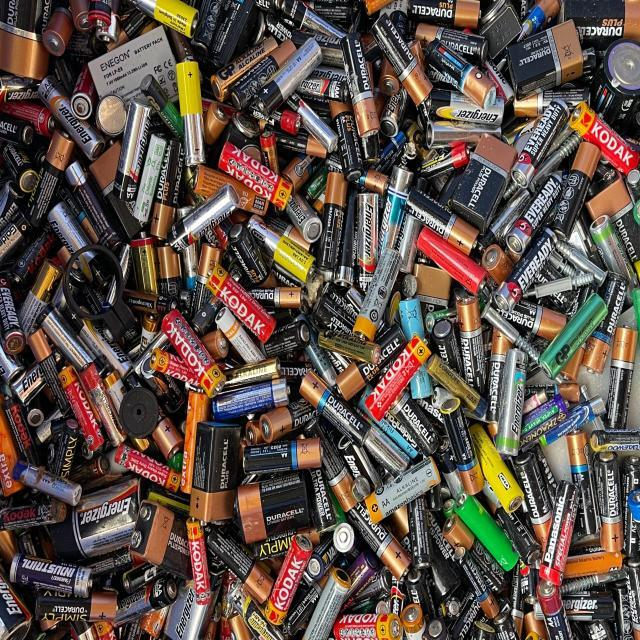B3: (248, 34, 324, 124), (369, 12, 436, 113), (540, 294, 610, 382), (207, 528, 280, 611), (402, 188, 480, 265), (351, 243, 405, 344), (421, 36, 500, 105), (363, 456, 442, 525), (510, 100, 573, 186), (211, 34, 285, 106), (166, 184, 242, 253), (570, 100, 636, 179), (66, 161, 125, 248), (469, 427, 525, 518), (548, 140, 600, 237), (169, 57, 215, 166), (189, 163, 270, 223), (265, 531, 316, 625), (245, 213, 317, 279), (340, 32, 380, 146), (528, 393, 603, 453), (194, 0, 261, 67), (380, 386, 442, 458), (28, 130, 76, 222), (7, 359, 60, 441), (415, 509, 464, 597), (537, 484, 579, 586), (113, 97, 153, 202), (489, 292, 568, 344), (312, 387, 374, 452), (376, 166, 414, 271), (510, 452, 555, 540), (357, 318, 414, 386), (112, 441, 182, 495), (211, 375, 291, 422), (138, 71, 190, 143), (493, 348, 527, 458), (410, 381, 469, 444), (18, 260, 66, 337), (9, 553, 93, 597), (441, 402, 482, 492), (300, 568, 354, 636), (7, 228, 60, 296), (397, 297, 434, 394), (318, 435, 364, 513), (297, 368, 360, 424), (456, 291, 488, 399), (589, 213, 633, 290), (272, 0, 348, 44), (318, 172, 348, 283), (242, 435, 323, 476), (10, 460, 81, 506), (462, 531, 511, 597), (591, 449, 623, 550), (149, 141, 182, 238), (606, 327, 636, 432), (564, 432, 595, 533), (226, 222, 272, 290), (1, 392, 39, 474), (303, 463, 345, 535), (474, 1, 524, 60), (485, 331, 514, 432), (146, 348, 210, 393), (513, 86, 591, 122), (359, 423, 411, 477), (310, 286, 362, 340), (518, 390, 568, 446), (25, 329, 65, 398), (549, 238, 603, 289), (493, 504, 539, 563), (128, 328, 176, 384), (299, 24, 355, 70), (429, 315, 465, 386), (111, 580, 166, 626), (316, 330, 380, 369), (264, 316, 316, 364), (0, 280, 30, 362), (332, 110, 364, 186), (298, 537, 342, 592), (407, 0, 489, 29), (2, 496, 68, 532), (186, 518, 213, 606), (33, 588, 98, 624), (339, 550, 383, 603), (0, 140, 40, 198), (301, 333, 341, 391), (191, 246, 221, 322), (0, 99, 56, 139), (346, 442, 385, 498), (416, 140, 473, 178), (45, 426, 84, 481), (221, 355, 284, 389), (283, 195, 324, 247), (536, 583, 574, 638), (423, 120, 497, 148), (619, 459, 640, 557), (152, 0, 202, 41), (78, 545, 134, 581), (403, 568, 437, 624), (560, 570, 626, 597), (512, 560, 538, 628), (150, 415, 186, 464), (130, 237, 160, 295), (565, 590, 619, 622), (67, 452, 115, 487), (278, 154, 316, 198), (94, 444, 138, 482), (334, 612, 392, 640), (480, 243, 516, 288), (156, 247, 182, 308), (121, 560, 165, 596), (248, 287, 305, 314), (610, 580, 635, 639), (522, 0, 561, 34), (87, 0, 118, 40), (138, 309, 162, 354), (180, 241, 200, 295), (259, 130, 280, 178), (521, 388, 553, 417), (66, 0, 92, 33), (489, 612, 519, 640)
daun: (447, 596, 488, 639)
elektronik: (45, 309, 128, 410), (48, 202, 120, 302), (444, 134, 516, 234), (498, 174, 566, 265), (38, 76, 107, 164), (188, 421, 242, 527), (347, 500, 411, 573), (142, 507, 198, 580), (213, 305, 267, 364), (354, 192, 381, 284), (339, 193, 362, 290), (41, 7, 75, 57)
